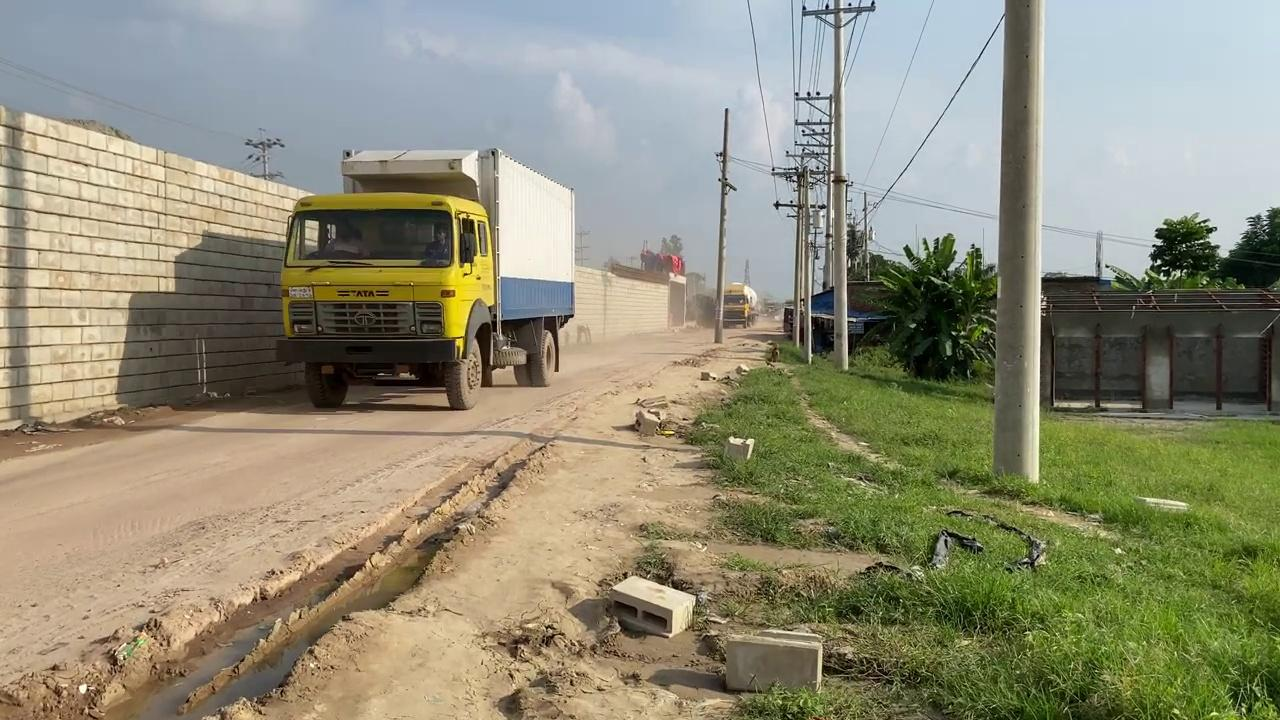Dog: (763, 340, 780, 367), (575, 323, 591, 345)
Muddy road: (1, 312, 794, 718)
Obstacle: (723, 628, 823, 694), (607, 574, 696, 638)
Pole: (990, 0, 1044, 483), (830, 1, 849, 372), (713, 107, 730, 343)
Sidewalk: (98, 581, 403, 720)
Traffic-sign: (861, 231, 998, 382), (1146, 210, 1220, 286), (1219, 205, 1279, 288)
Tree: (275, 145, 576, 410), (639, 239, 685, 277), (722, 282, 758, 328)
Upstairs: (0, 104, 321, 431)
